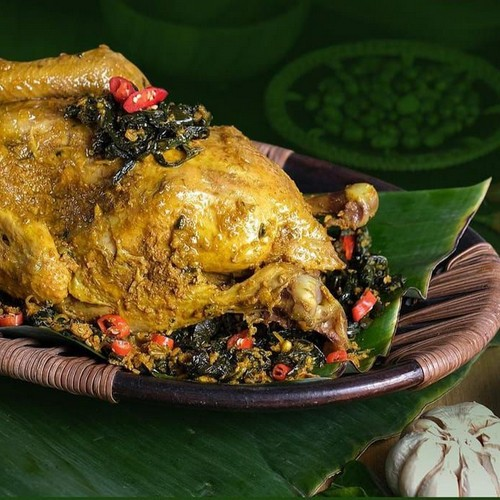ayam betutu: (4, 74, 275, 324)
